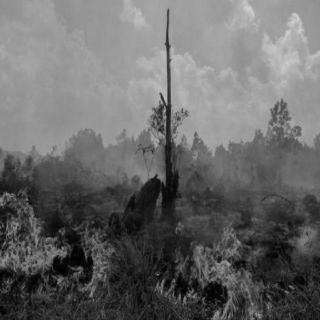Fire: (3, 164, 116, 303)
